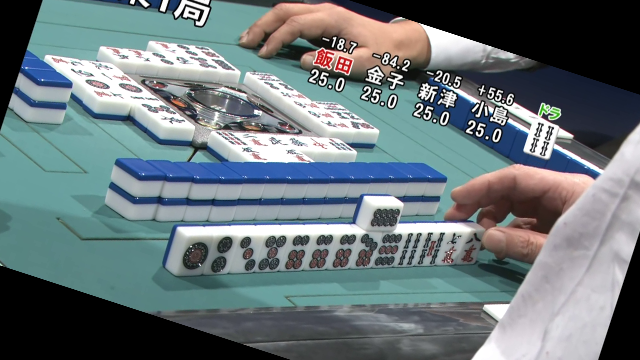Tehai: (163, 215, 487, 279), (177, 220, 485, 287)
